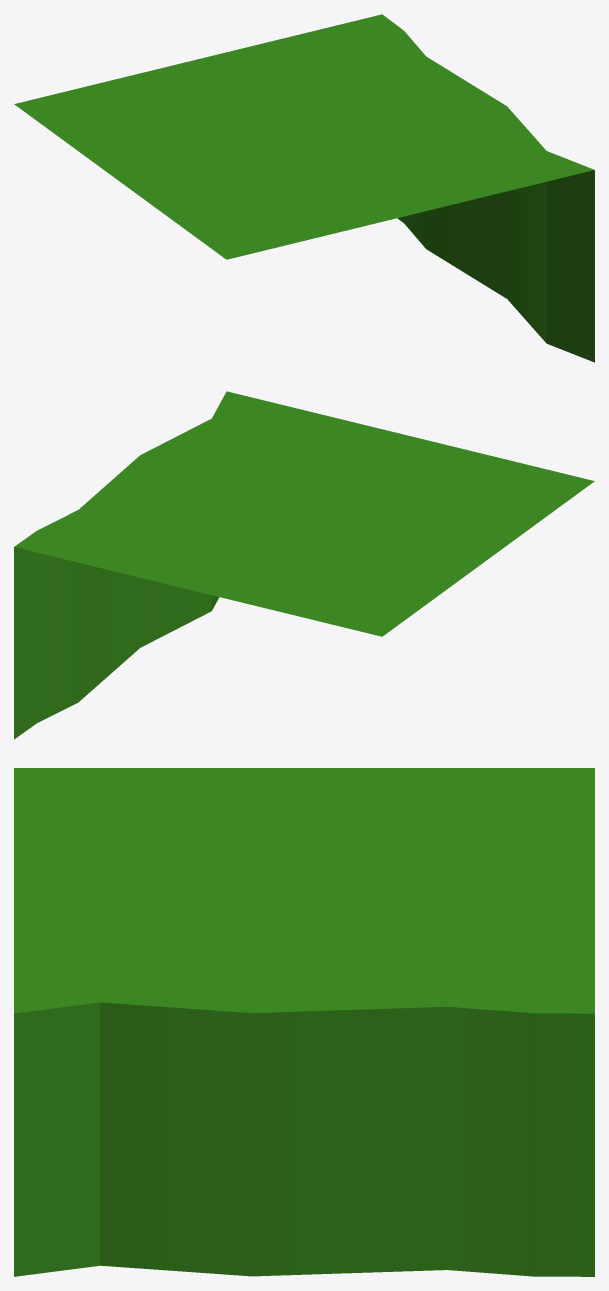
Rendered from grass_middle_1_tile.fbx.
3 renders of one model, top to bottom at view 1: azimuth 30°, elevation 25°; view 2: azimuth 150°, elevation 25°; view 3: azimuth 270°, elevation 25°, orthographic. The views are drawn at different scales.
Parts seen in each view (by area): view 1: middle_tile; view 2: middle_tile; view 3: middle_tile.
Boxes of the visible parts, <box> form: middle_tile: <box>14,14,594,362</box>; middle_tile: <box>14,391,594,739</box>; middle_tile: <box>14,768,594,1276</box>.
Size of the model in its own units: 1000 by 500 by 1000.
